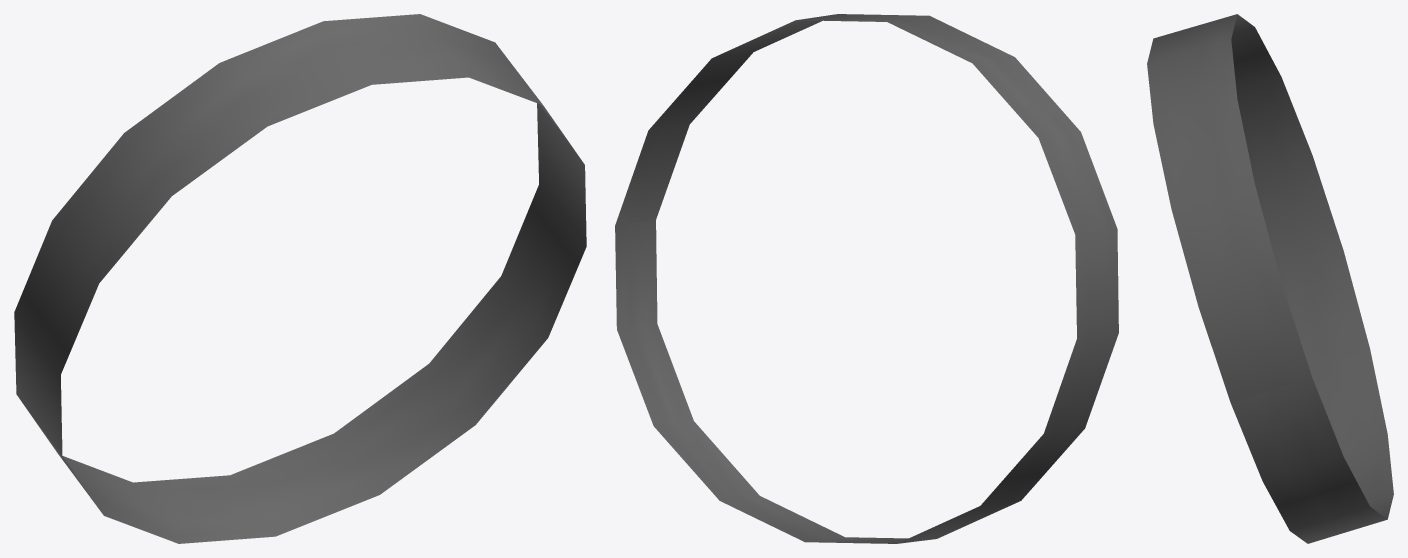
Rendered from mastarmcurve_6x2_c4.obj.
3 renders of one model, left to right at view 1: azimuth 30°, elevation 25°; view 2: azimuth 150°, elevation 25°; view 3: azimuth 270°, elevation 25°, orthographic. The views are drawn at different scales.
Parts seen in each view (by area): view 1: mastarm_6x2_c4; view 2: mastarm_6x2_c4; view 3: mastarm_6x2_c4.
Boxes of the visible parts, x1,y1,x2,y2 form: mastarm_6x2_c4: (14, 14, 586, 543); mastarm_6x2_c4: (615, 14, 1118, 543); mastarm_6x2_c4: (1147, 14, 1393, 543).
Bounding box in the file's own units: 0.5375 × 0.5375 × 0.251.
